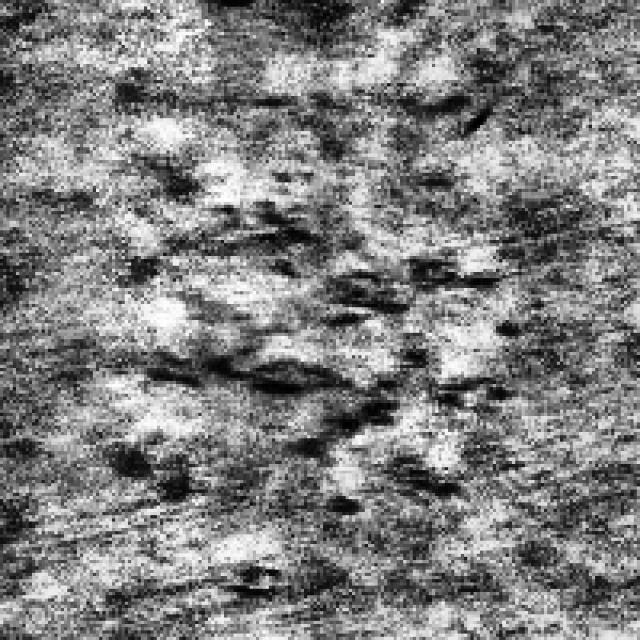Crazing: (153, 211, 490, 506), (246, 54, 486, 182)
